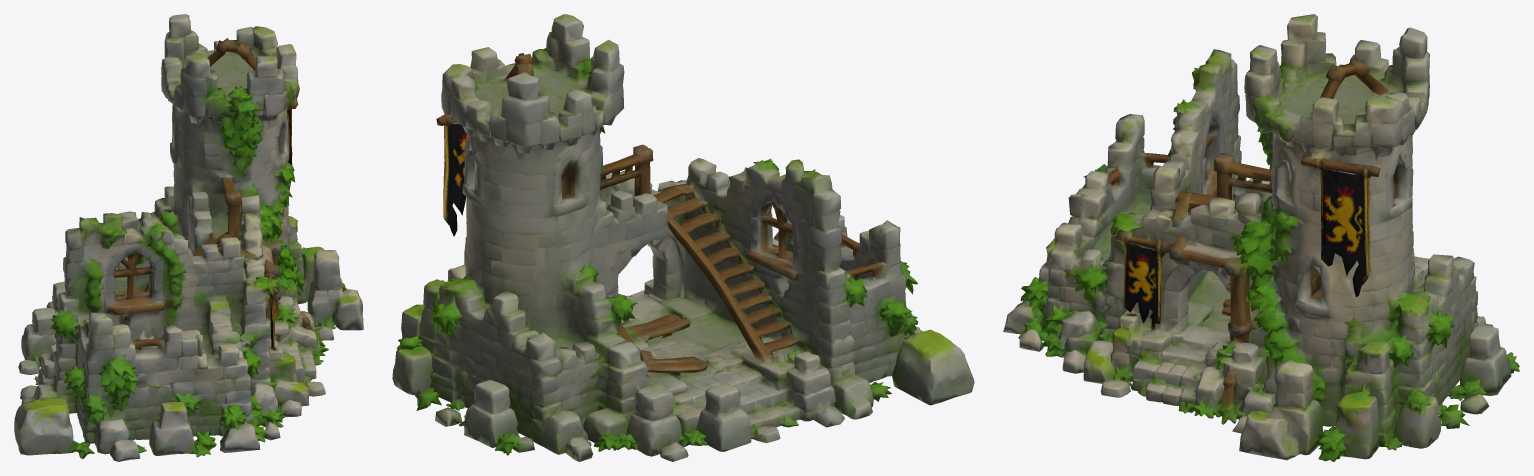
The model's file is medieval castle 3d model.glb.
The picture shows the model from 3 angles, left to right: view 1: azimuth 30°, elevation 25°; view 2: azimuth 150°, elevation 25°; view 3: azimuth 270°, elevation 25°; orthographic projection. The views are drawn at different scales.
Visible parts, largest first — view 1: tripo_node_8c817ddd-50ae-4836-9091-50805a16dc35; view 2: tripo_node_8c817ddd-50ae-4836-9091-50805a16dc35; view 3: tripo_node_8c817ddd-50ae-4836-9091-50805a16dc35.
Boxes of the visible parts, x1=… form: tripo_node_8c817ddd-50ae-4836-9091-50805a16dc35: x1=14, y1=14, x2=363, y2=461; tripo_node_8c817ddd-50ae-4836-9091-50805a16dc35: x1=392, y1=14, x2=974, y2=461; tripo_node_8c817ddd-50ae-4836-9091-50805a16dc35: x1=1003, y1=14, x2=1519, y2=461.
Size of the model in its own units: 1 by 0.6796 by 0.9048.
Materials: 1 (1 with a texture image).
